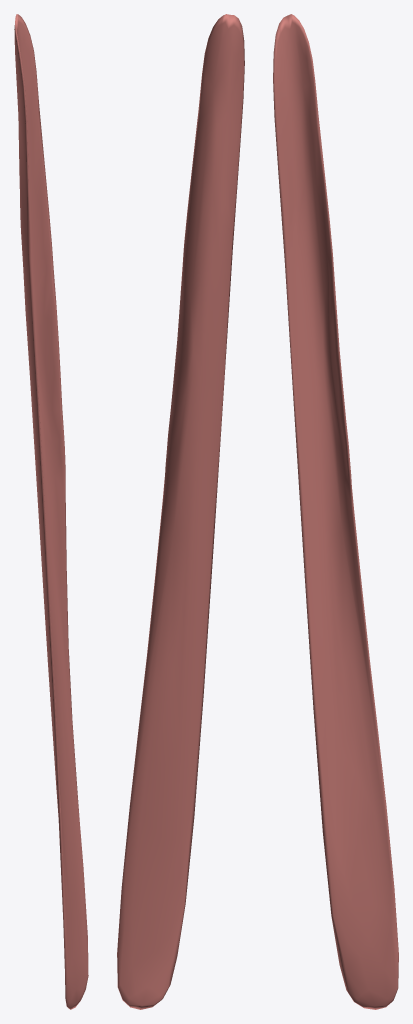
3 renders of one model, left to right at view 1: azimuth 30°, elevation 25°; view 2: azimuth 150°, elevation 25°; view 3: azimuth 330°, elevation 25°, orthographic. The views are drawn at different scales.
Parts seen in each view (by area): view 1: ZA_b5c7975d45412e9e; view 2: ZA_b5c7975d45412e9e; view 3: ZA_b5c7975d45412e9e.
Part boxes in pixels (x1,y1,x2,y2): ZA_b5c7975d45412e9e: (14,14,88,1009); ZA_b5c7975d45412e9e: (117,14,244,1009); ZA_b5c7975d45412e9e: (273,14,398,1009).
Bounding box in the file's own units: 0.0164 × 0.1621 × 0.00986.
